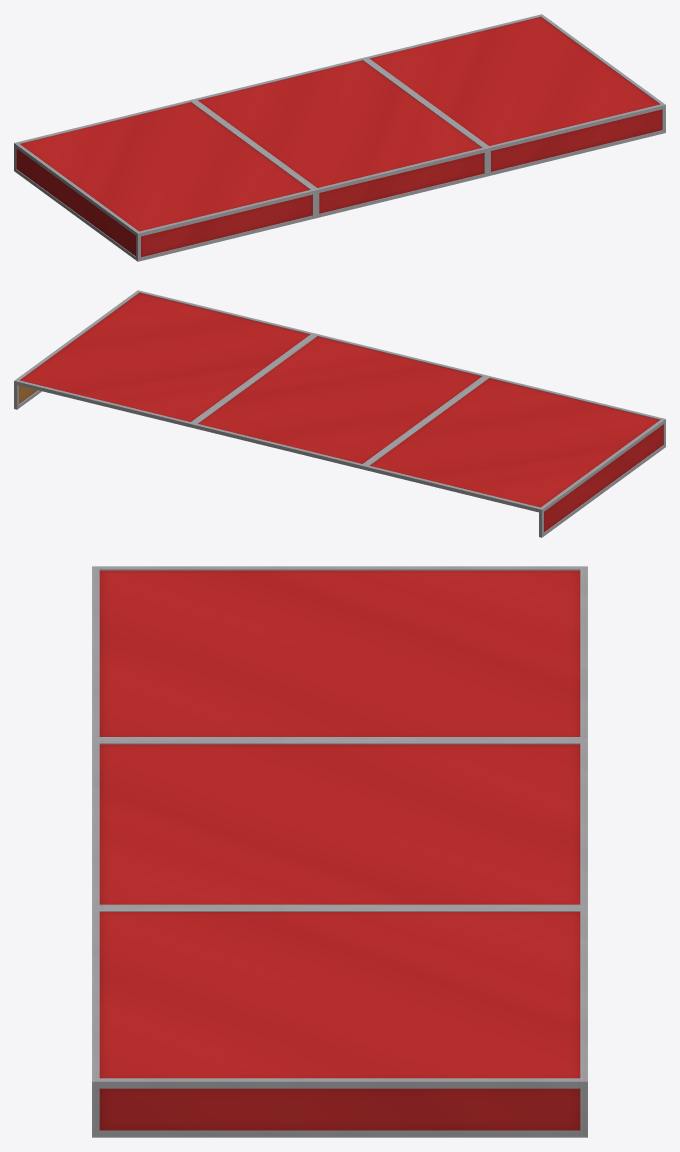
File: jsf_2P_s02_c06_t01_DX.fbx
3 renders of one model, top to bottom at view 1: azimuth 30°, elevation 25°; view 2: azimuth 150°, elevation 25°; view 3: azimuth 270°, elevation 25°, orthographic. The views are drawn at different scales.
Parts seen in each view (by area): view 1: jsf_2P_s02_c06_t01_DX; view 2: jsf_2P_s02_c06_t01_DX; view 3: jsf_2P_s02_c06_t01_DX.
Part boxes in pixels (x1,y1,x2,y2): jsf_2P_s02_c06_t01_DX: [14, 14, 665, 261]; jsf_2P_s02_c06_t01_DX: [14, 290, 665, 537]; jsf_2P_s02_c06_t01_DX: [92, 566, 587, 1137].
Bounding box in the file's own units: 246 × 12.51 × 100.
